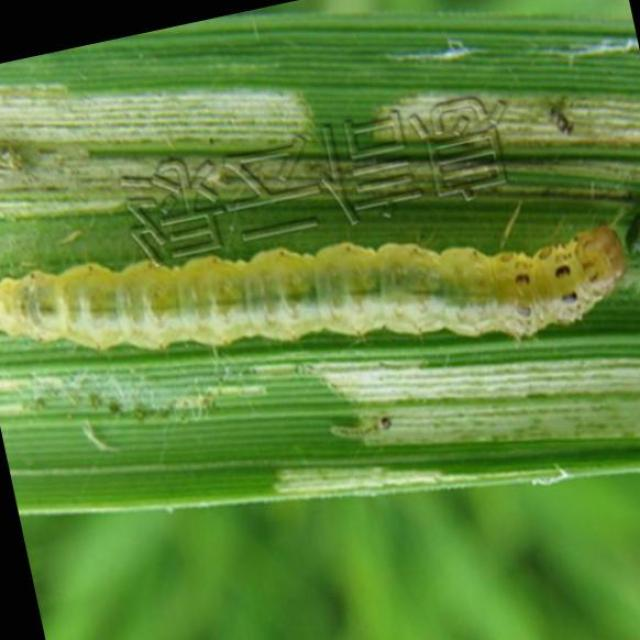leaf folder: (0, 227, 626, 349)
